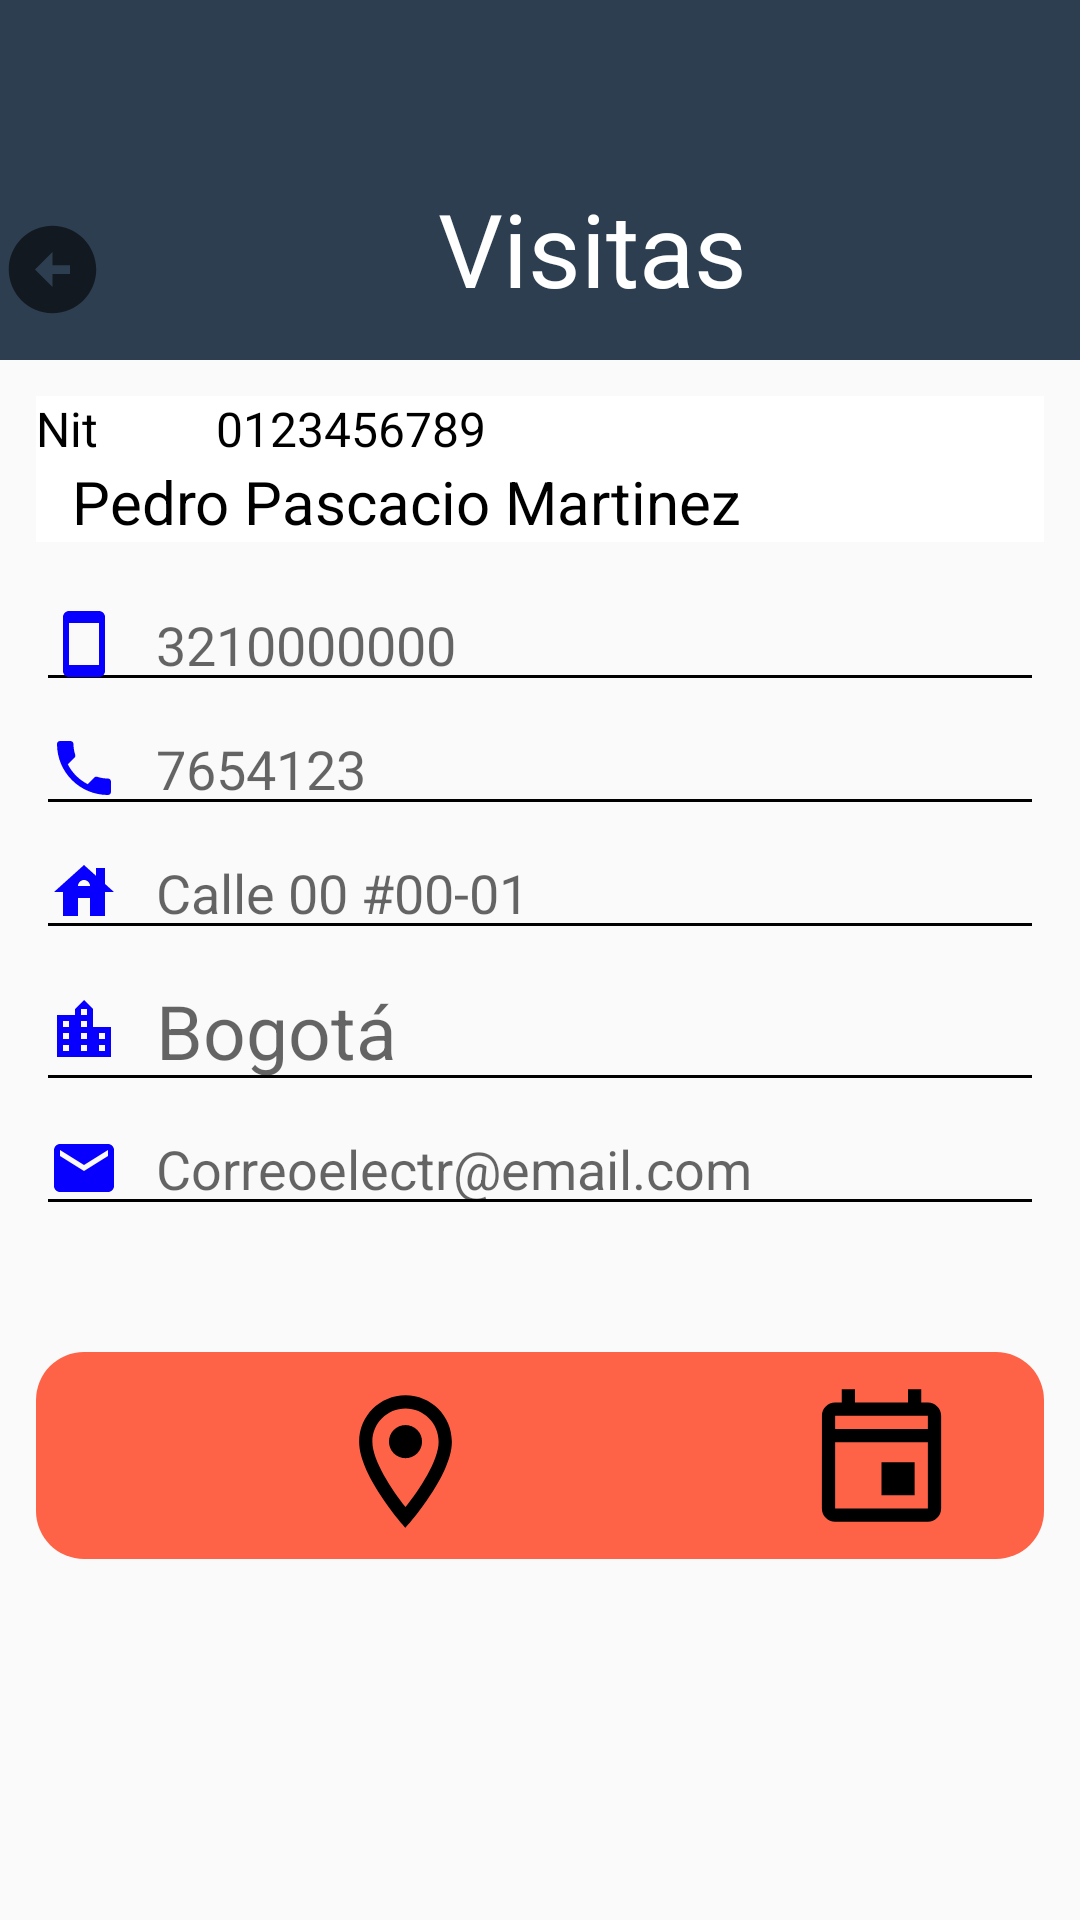

Named icons in this screenshot (1080 x 1920) and their centers, [x,y]:
event: [881,1455]
room: [405,1461]
